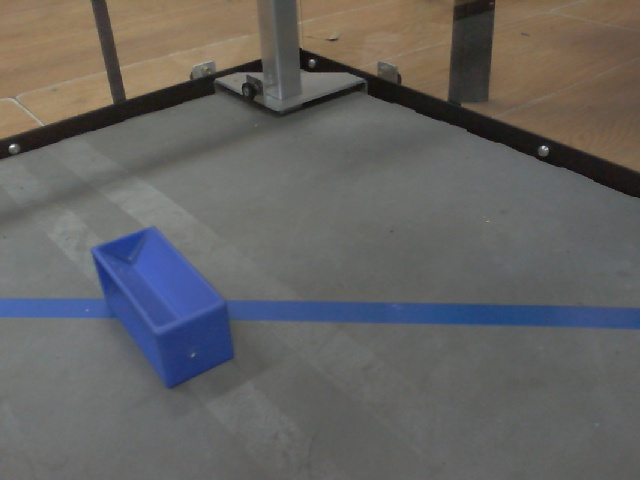BlueSample: (88, 222, 236, 393)
